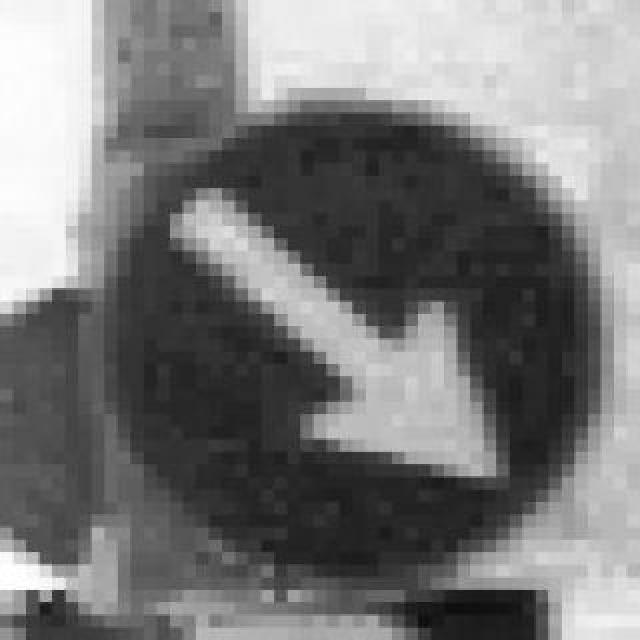keep right: (78, 76, 588, 578)
